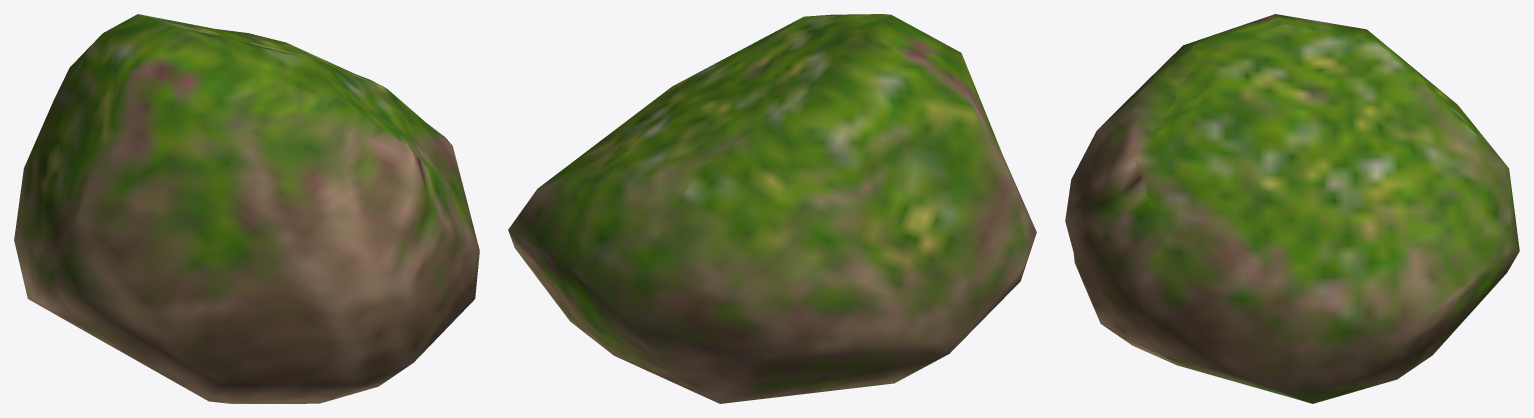
Rendered from sb_obj_nature006_Stone04c.fbx.
The picture shows the model from 3 angles, left to right: view 1: azimuth 30°, elevation 25°; view 2: azimuth 150°, elevation 25°; view 3: azimuth 270°, elevation 25°; orthographic projection. The views are drawn at different scales.
Parts seen in each view (by area): view 1: sb_obj_nature006_Stone04c; view 2: sb_obj_nature006_Stone04c; view 3: sb_obj_nature006_Stone04c.
Part boxes in pixels (left/top/right/bottom): sb_obj_nature006_Stone04c: left=14, top=14, right=479, bottom=403; sb_obj_nature006_Stone04c: left=508, top=14, right=1036, bottom=403; sb_obj_nature006_Stone04c: left=1065, top=14, right=1519, bottom=403.
Bounding box in the file's own units: 0.5292 × 0.39 × 0.5566.
